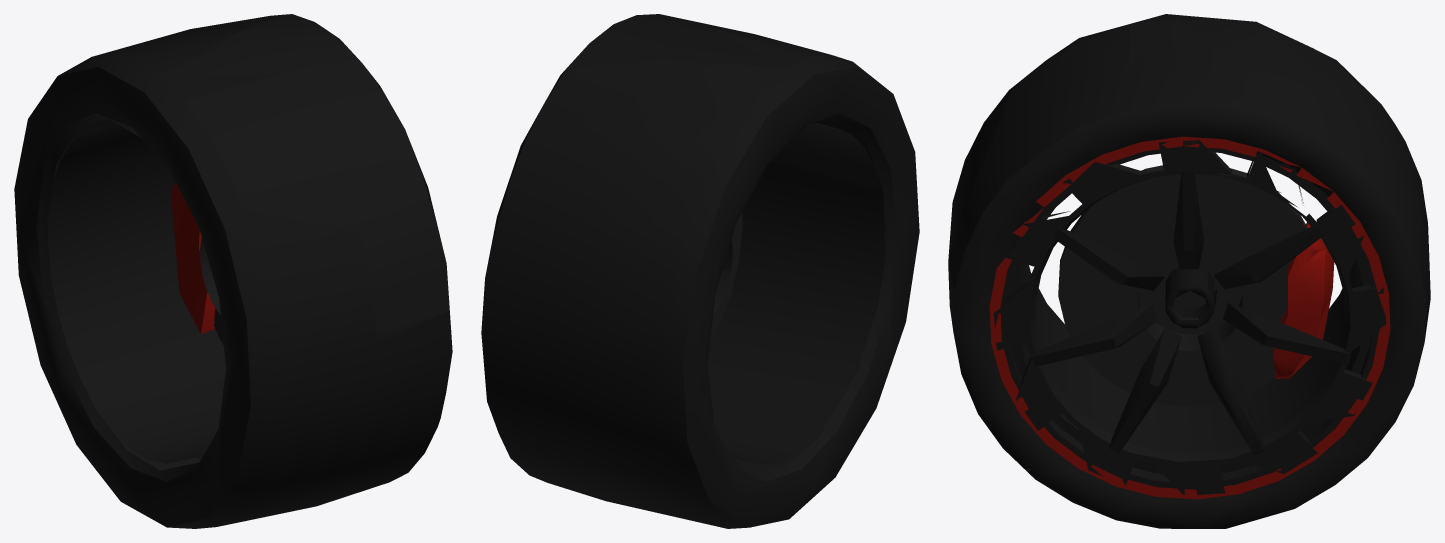
File: Wheel1.fbx
3 views of the same model, side by side, from view 1: azimuth 30°, elevation 25°; view 2: azimuth 150°, elevation 25°; view 3: azimuth 270°, elevation 25° (orthographic). The views are drawn at different scales.
Parts seen in each view (by area): view 1: tire_lf1, lamborgh35_1; view 2: tire_lf1; view 3: tire_lf1, lamborgh35_1.
Part boxes in pixels (x1,y1,x2,y2): tire_lf1: [14, 14, 452, 528]; lamborgh35_1: [171, 182, 215, 334]; tire_lf1: [481, 14, 919, 528]; tire_lf1: [948, 14, 1430, 528]; lamborgh35_1: [1272, 222, 1334, 378].
Size of the model in its own units: 16.93 by 33.49 by 33.8.
